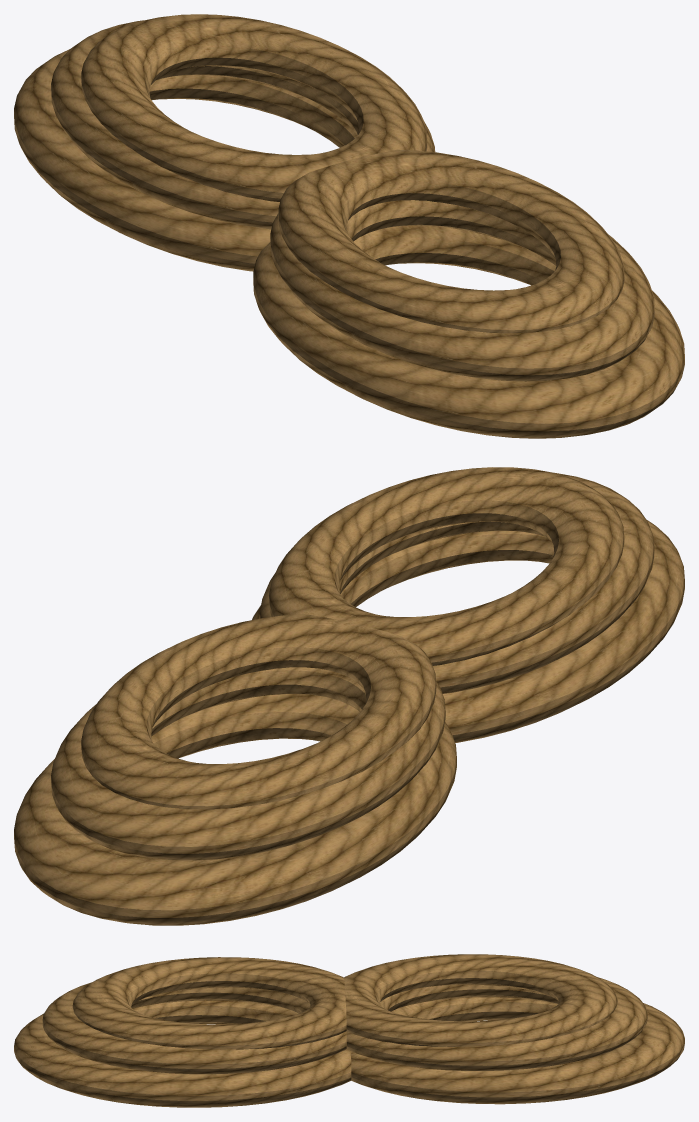
Rendered from Arnes2.fbx.
3 views of the same model, one above another, from view 1: azimuth 30°, elevation 25°; view 2: azimuth 150°, elevation 25°; view 3: azimuth 270°, elevation 25° (orthographic). The views are drawn at different scales.
Parts seen in each view (by area): view 1: Cuerda 2.001; view 2: Cuerda 2.001; view 3: Cuerda 2.001.
Part boxes in pixels (x1,y1,x2,y2): Cuerda 2.001: [14, 14, 684, 438]; Cuerda 2.001: [14, 467, 684, 925]; Cuerda 2.001: [14, 954, 684, 1107].
Size of the model in its own units: 170 by 51.27 by 450.
